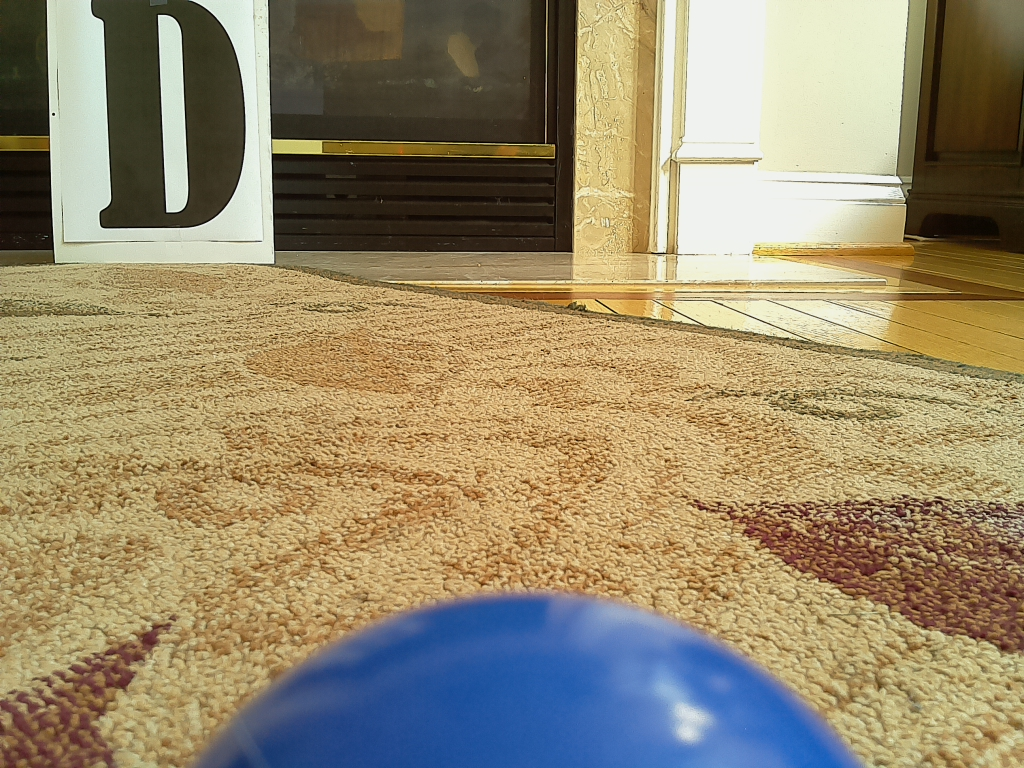letter: (99, 1, 245, 227)
